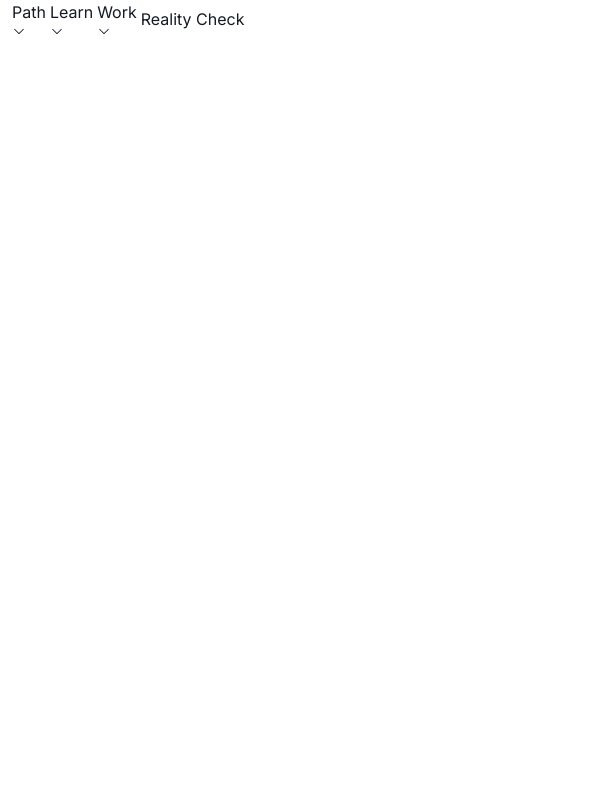
NavDesktop › opens the panel on click and toggles aria-expanded
The width and height of the screenshot is (600, 810).
Click the button "Learn". click: {"x": 72, "y": 19}
box: [50,0,93,38]
(page scrolled)
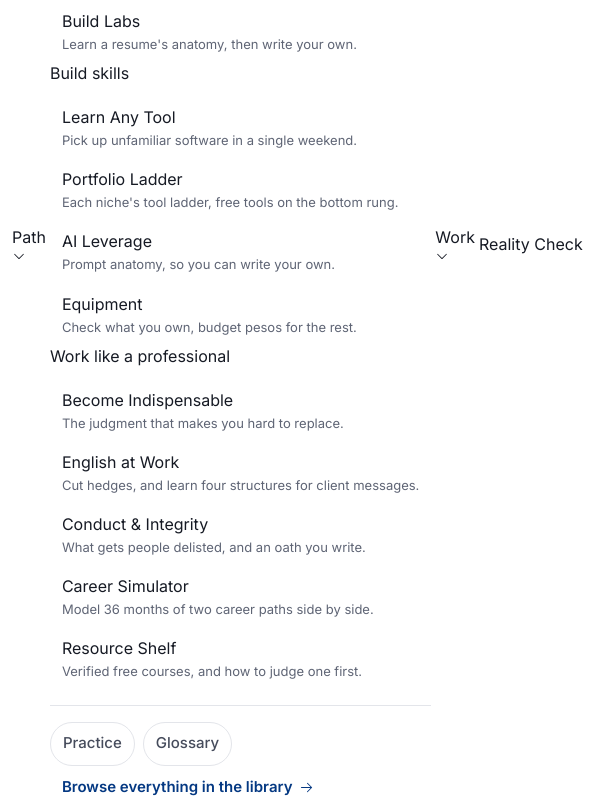
Expected: the text "Work like a professional" is shown, [50,346,230,366]
